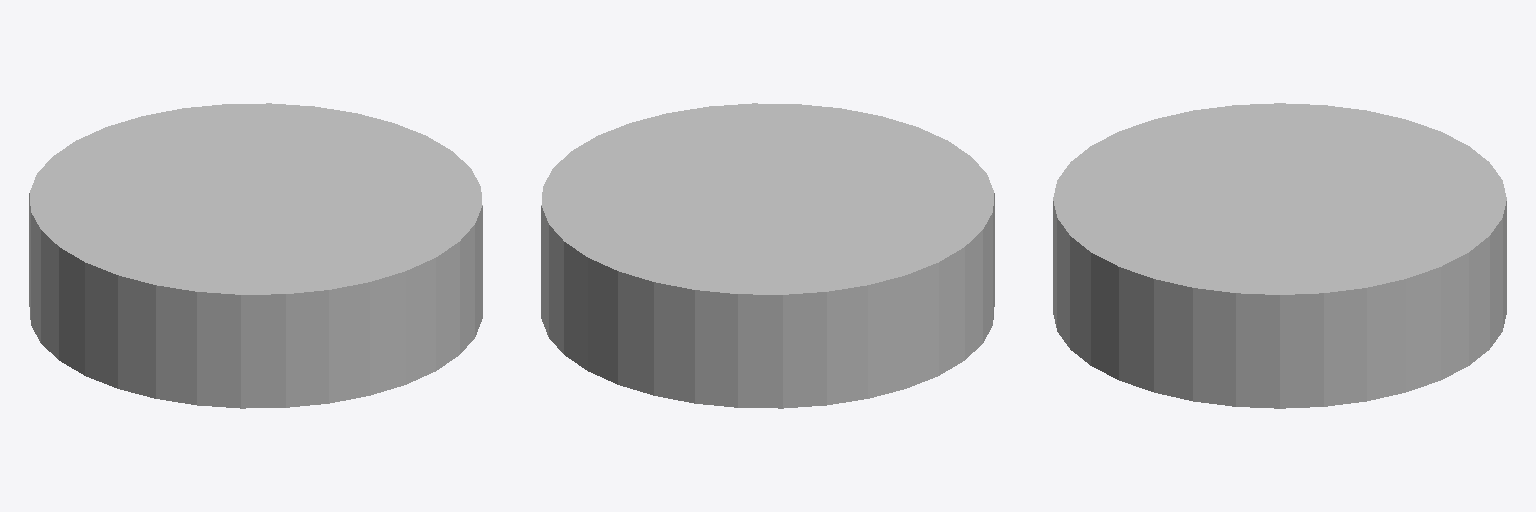
The model's file is drumsetV4_Hi-Hat_Hitbox.obj.
3 renders of one model, left to right at view 1: azimuth 30°, elevation 25°; view 2: azimuth 150°, elevation 25°; view 3: azimuth 270°, elevation 25°, orthographic.
Parts seen in each view (by area): view 1: drumsetV4_Hi-Hat_Hitbox_Cylinder.003; view 2: drumsetV4_Hi-Hat_Hitbox_Cylinder.003; view 3: drumsetV4_Hi-Hat_Hitbox_Cylinder.003.
Part boxes in pixels (x1,y1,x2,y2): drumsetV4_Hi-Hat_Hitbox_Cylinder.003: (29,103,482,408); drumsetV4_Hi-Hat_Hitbox_Cylinder.003: (541,103,994,408); drumsetV4_Hi-Hat_Hitbox_Cylinder.003: (1053,103,1506,408).
Bounding box in the file's own units: 0.8917 × 0.2463 × 0.8917.